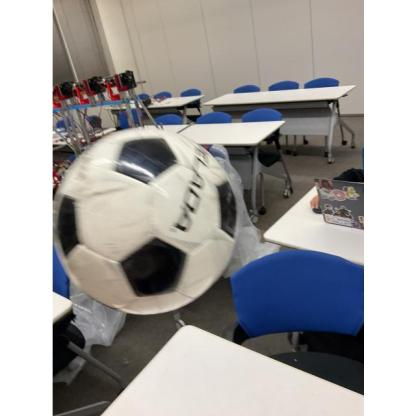ball: (54, 127, 238, 314)
